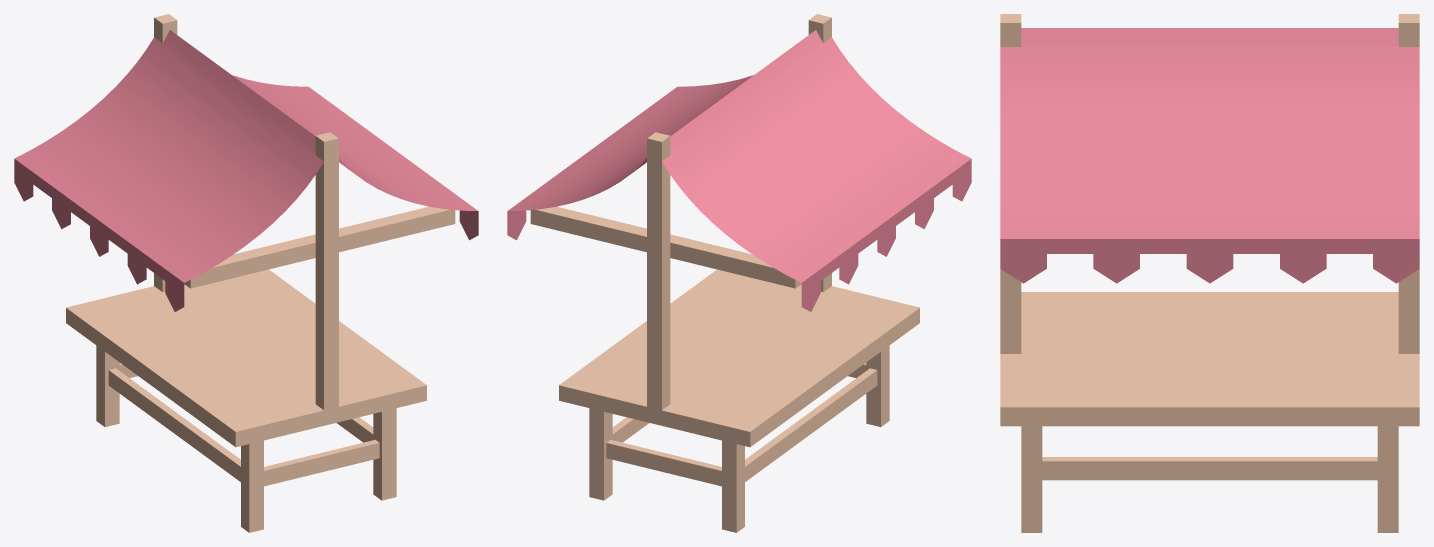
3 renders of one model, left to right at view 1: azimuth 30°, elevation 25°; view 2: azimuth 150°, elevation 25°; view 3: azimuth 270°, elevation 25°, orthographic. The views are drawn at different scales.
Visible parts, largest first — view 1: stallRed; view 2: stallRed; view 3: stallRed.
Part boxes in pixels (left/top/right/bottom): stallRed: left=14, top=14, right=478, bottom=532; stallRed: left=507, top=14, right=971, bottom=532; stallRed: left=1000, top=14, right=1419, bottom=532.
Size of the model in its own units: 1 by 1.24 by 1.
